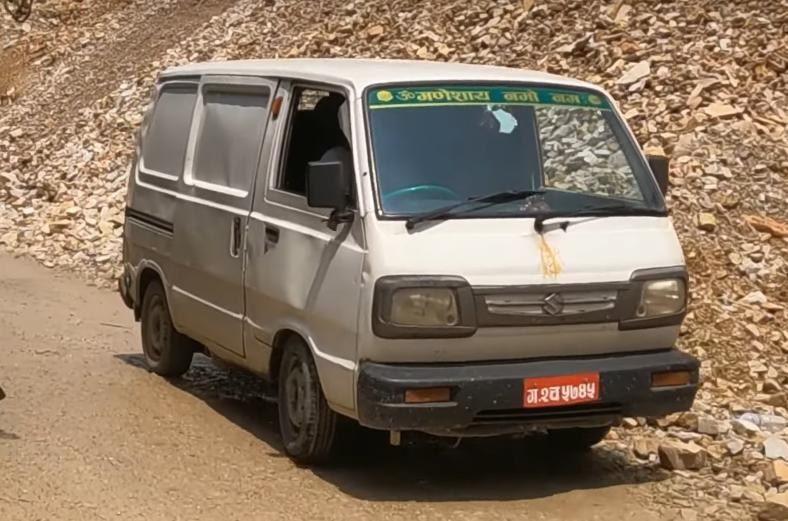van: (112, 43, 718, 463)
